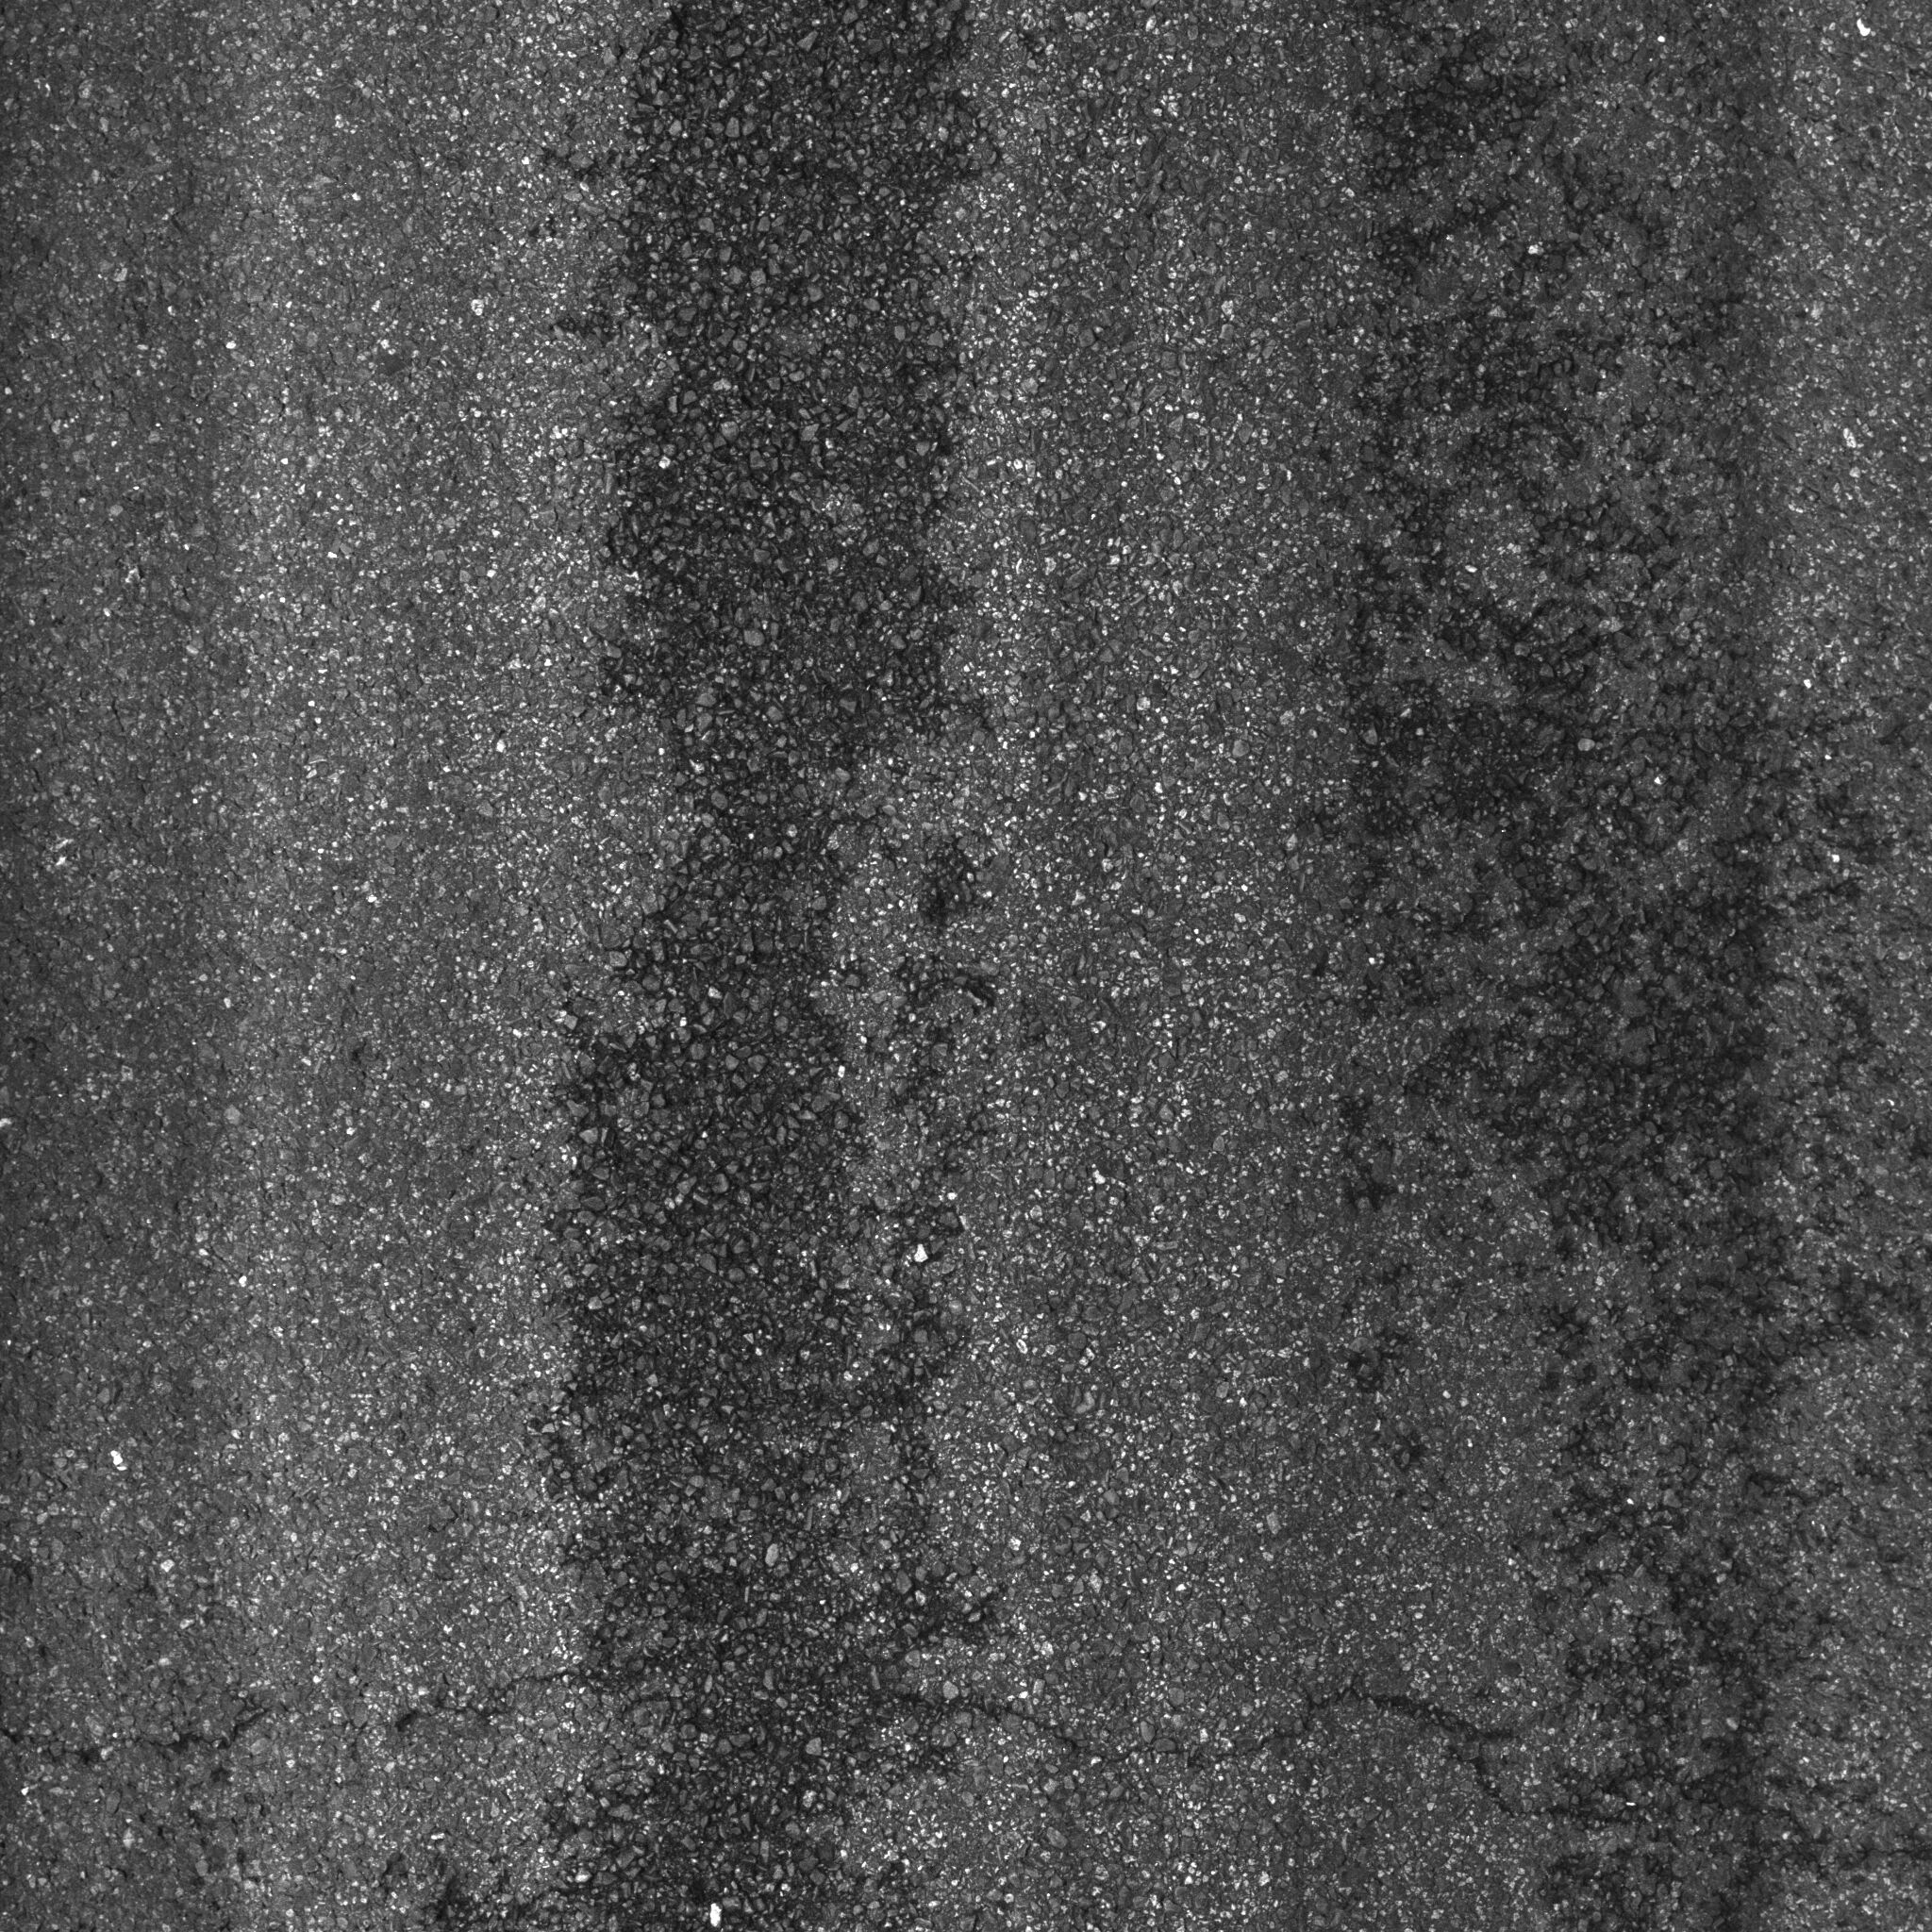transeverse: (11, 1614, 1932, 1877)
